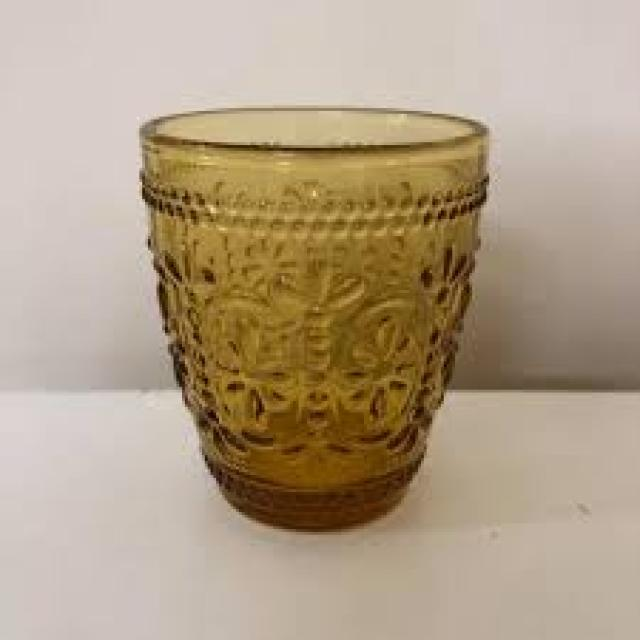glass: (137, 103, 487, 527)
